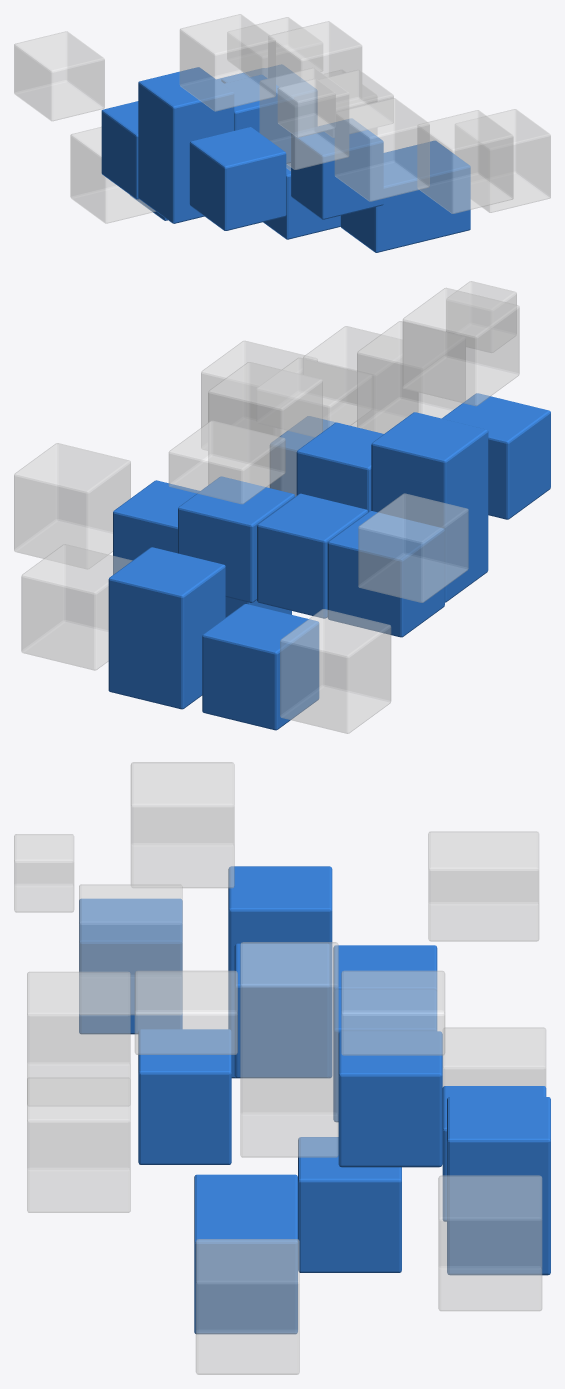
The model's file is horny_cubes.glb.
The picture shows the model from 3 angles, top to bottom: view 1: azimuth 30°, elevation 25°; view 2: azimuth 150°, elevation 25°; view 3: azimuth 270°, elevation 25°; orthographic projection. The views are drawn at different scales.
Visible parts, largest first — view 1: border_011, core_011; view 2: core_011, border_011; view 3: border_011, core_011.
Part boxes in pixels (x1,y1,x2,y2): border_011: (14, 14, 550, 223); core_011: (101, 65, 470, 252); core_011: (108, 393, 550, 730); border_011: (14, 281, 519, 733); border_011: (14, 762, 546, 1374); core_011: (79, 866, 550, 1334).
Size of the model in its own units: 5.41 by 3.21 by 4.13.
